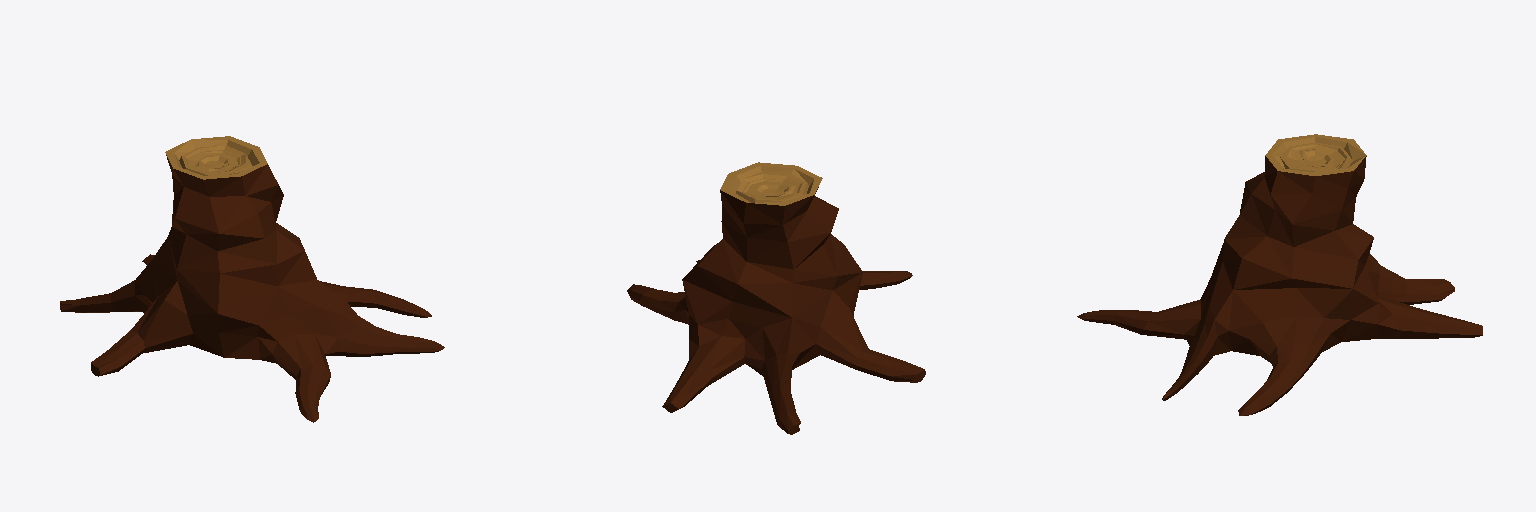
The model's file is penek2.obj.
3 views of the same model, side by side, from view 1: azimuth 30°, elevation 25°; view 2: azimuth 150°, elevation 25°; view 3: azimuth 270°, elevation 25° (orthographic).
Parts seen in each view (by area): view 1: Cube.001; view 2: Cube.001; view 3: Cube.001.
Boxes of the visible parts, box(x1,y1,x2,y2) form: Cube.001: box(60, 136, 444, 422); Cube.001: box(627, 162, 925, 434); Cube.001: box(1077, 134, 1482, 415).
Size of the model in its own units: 5.61 by 3.08 by 6.29.